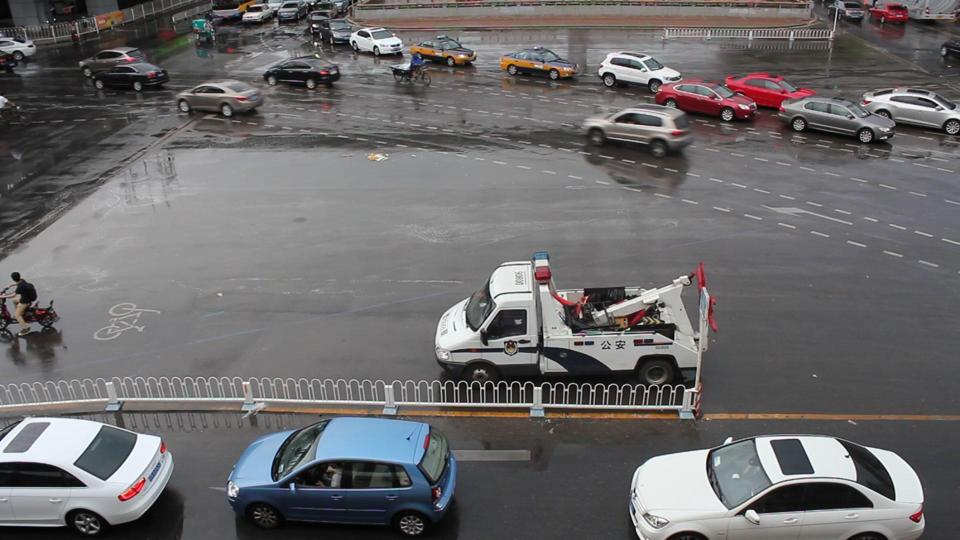Car: (627, 430, 922, 540), (228, 415, 455, 535), (1, 410, 176, 540), (581, 101, 689, 162), (776, 91, 892, 146), (857, 84, 960, 136), (656, 75, 754, 124), (721, 67, 816, 113), (596, 47, 682, 96), (178, 76, 265, 121), (500, 42, 578, 85), (265, 55, 341, 89), (410, 34, 476, 71), (348, 22, 404, 58), (322, 18, 355, 50)
Truck: (433, 250, 714, 391)
